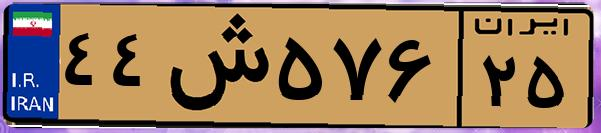2: (475, 38, 525, 113)
4: (57, 26, 110, 100), (110, 28, 158, 98)
5: (270, 28, 330, 110), (525, 38, 570, 115)
6: (385, 28, 445, 110)
7: (330, 28, 385, 110)
ش: (158, 12, 270, 120)
